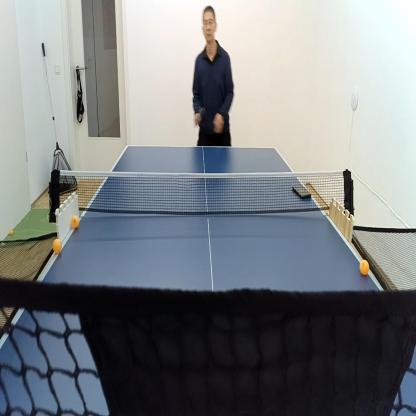Ball: (359, 258, 370, 277), (52, 237, 62, 254), (71, 214, 80, 230), (0, 241, 6, 247), (9, 228, 13, 236)
